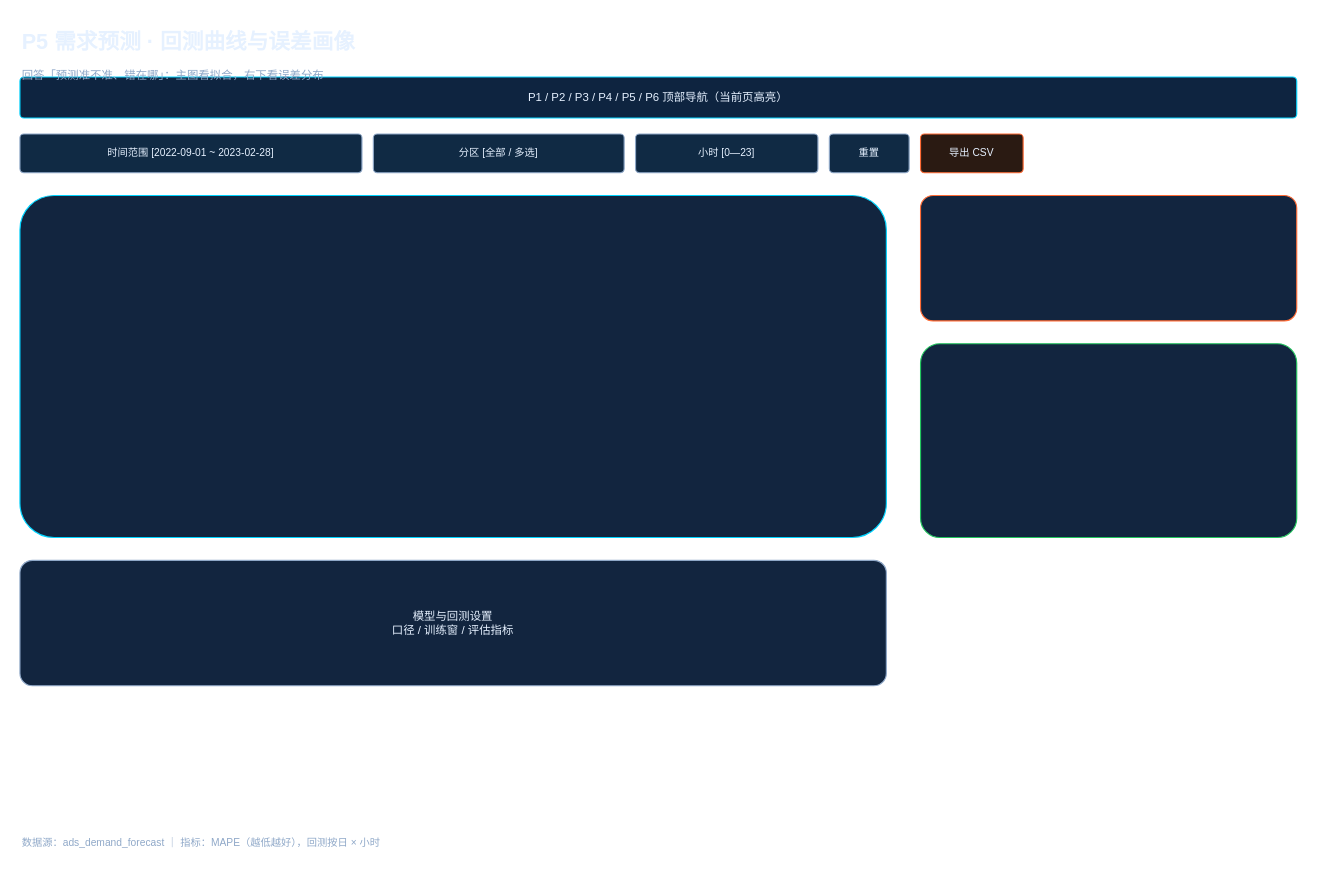
This 1340x885 diagram has some shape labels left out. The centre of each missing label's shape, as x and y in pixels:
"MAPE KPI 卡（均值 / P90 / 分区数）" belongs at (1108,257).
"分区需求预测曲线（实际 vs 预测）" belongs at (452,366).
"预测误差分布（直方图）" belongs at (1108,440).
